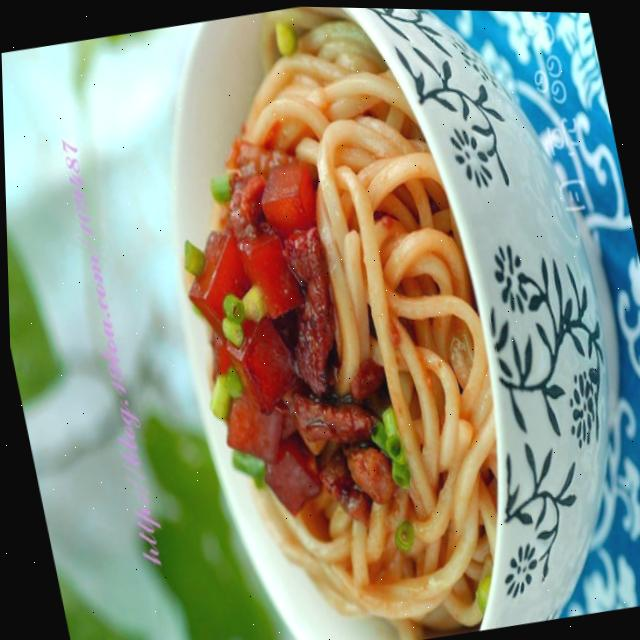面条主食: (90, 2, 637, 640)
